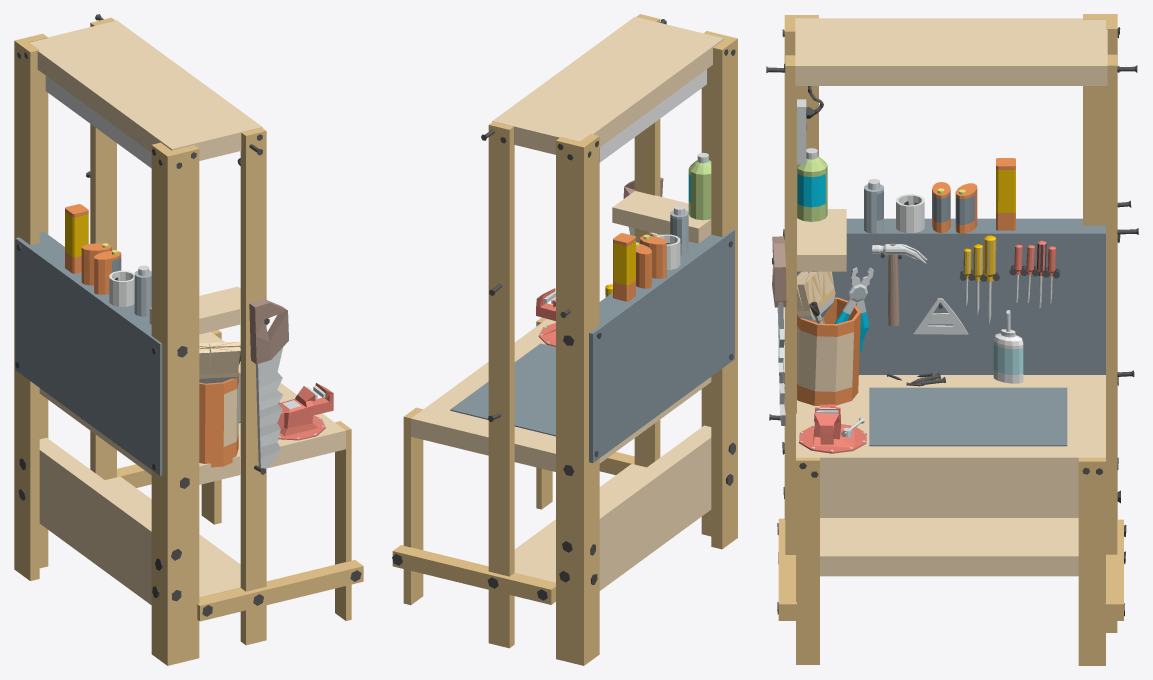
The model's file is workbench.glb.
3 views of the same model, side by side, from view 1: azimuth 30°, elevation 25°; view 2: azimuth 150°, elevation 25°; view 3: azimuth 270°, elevation 25° (orthographic). The views are drawn at different scales.
Parts seen in each view (by area): view 1: Bench, Hand Saw, group1673330486.103, Vice Clamp, Paint Brush, group348818362, group1677974325, group1115598653, group931417814, group1903879849; view 2: Bench, group348818362, group1416475030, Vice Clamp, group1677974325, group931417814, group1903879849, group1115598653; view 3: Bench, group1673330486.103, Vice Clamp, group1416475030, Hand Saw, Glue, Paint Brush, group348818362, group634296461, group1673330486.063, Pliers, group1115598653 (+4 smaller).
Part boxes in pixels (x1,y1,x2,y2): Bench: (14,14,363,665); Hand Saw: (249,299,288,468); group1673330486.103: (199,370,238,467); Vice Clamp: (277,383,333,440); Paint Brush: (199,341,240,383); group348818362: (65,204,88,273); group1677974325: (94,251,121,294); group1115598653: (109,270,134,306); group931417814: (134,265,151,316); group1903879849: (81,243,111,285); Bench: (392,14,737,665); group348818362: (613,233,635,301); group1416475030: (688,152,711,220); Vice Clamp: (536,288,555,346); group1677974325: (640,236,666,278); group931417814: (670,205,688,255); group1903879849: (636,244,651,288); group1115598653: (657,234,680,269); Bench: (766,14,1138,665); group1673330486.103: (797,297,860,405); Vice Clamp: (799,404,866,453); group1416475030: (797,148,827,221); Hand Saw: (772,236,786,425); Glue: (993,310,1023,383); Paint Brush: (797,271,835,323); group348818362: (996,158,1015,230); group634296461: (872,243,927,325); group1673330486.063: (913,298,968,334); Pliers: (834,267,873,351); group1115598653: (896,194,924,232).
Size of the model in its own units: 1.07 by 2.72 by 1.62.
